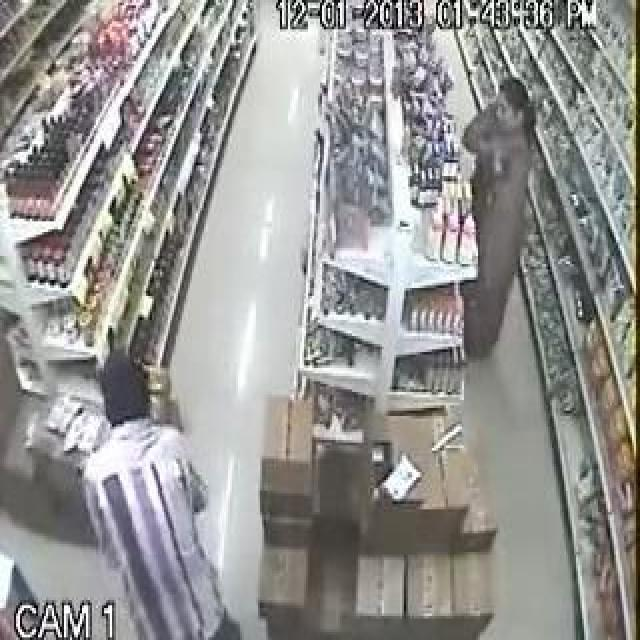Shoplifting: (441, 58, 565, 417)
